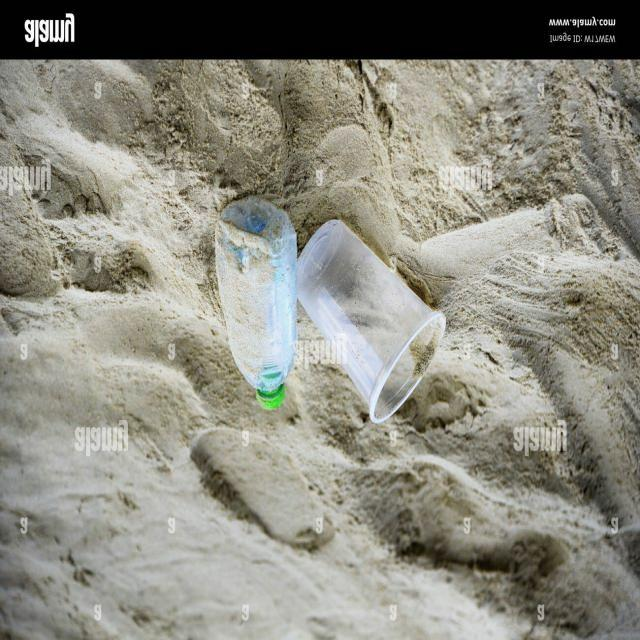Plastic: (298, 208, 446, 425), (216, 194, 297, 412)
